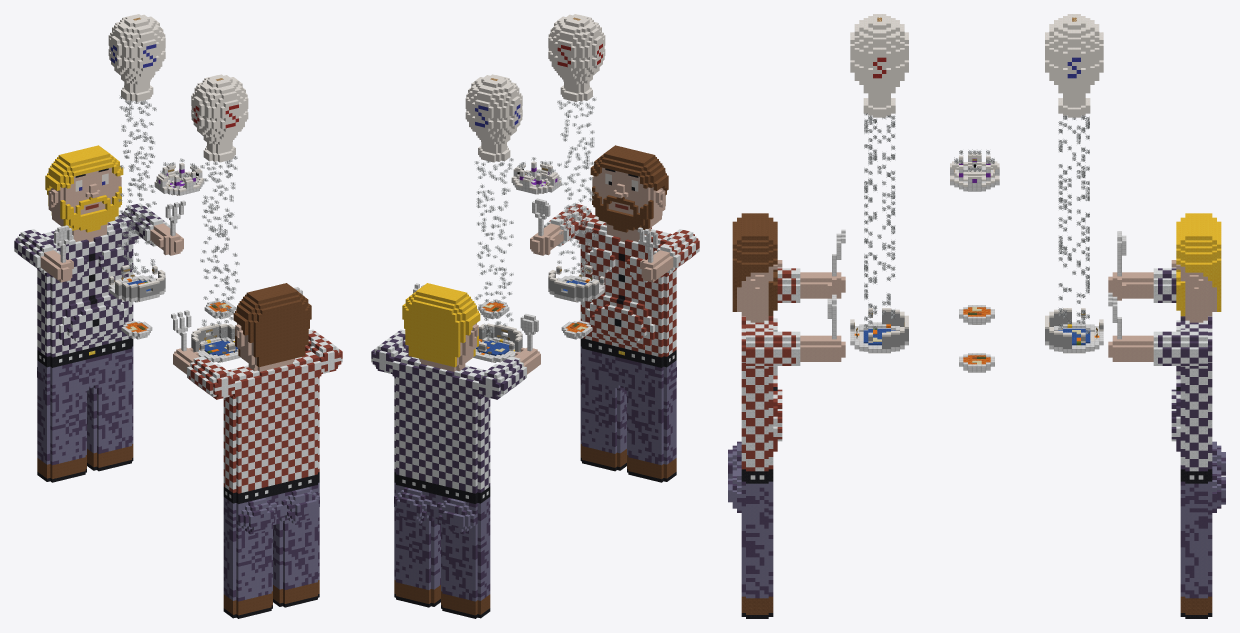
File: minecraft.obj
The picture shows the model from 3 angles, left to right: view 1: azimuth 30°, elevation 25°; view 2: azimuth 150°, elevation 25°; view 3: azimuth 270°, elevation 25°; orthographic projection. The views are drawn at different scales.
Size of the model in its own units: 40 by 140 by 110.
